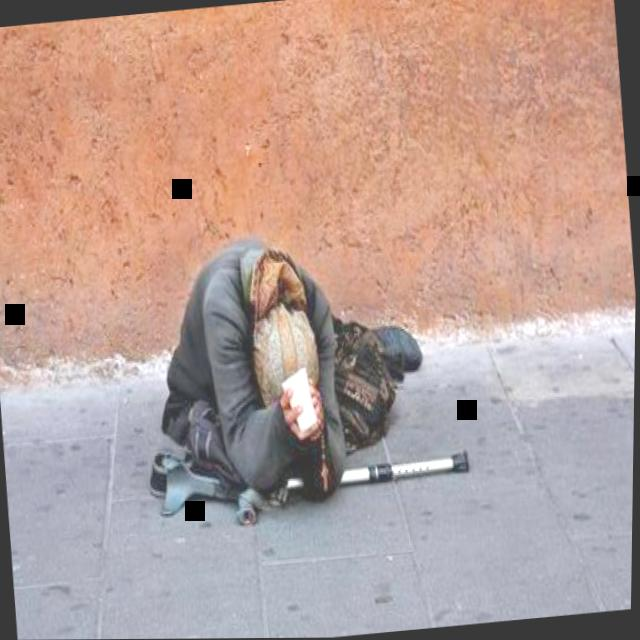Fall-Detected: (116, 207, 447, 535)
